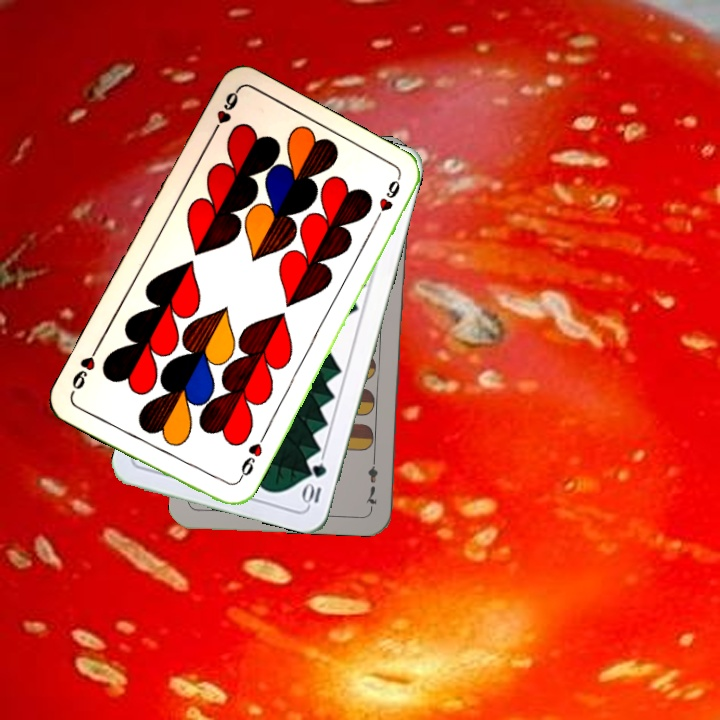E7: (362, 451, 380, 510)
G10: (300, 459, 329, 508)
H9: (206, 87, 242, 142), (232, 432, 268, 486)
